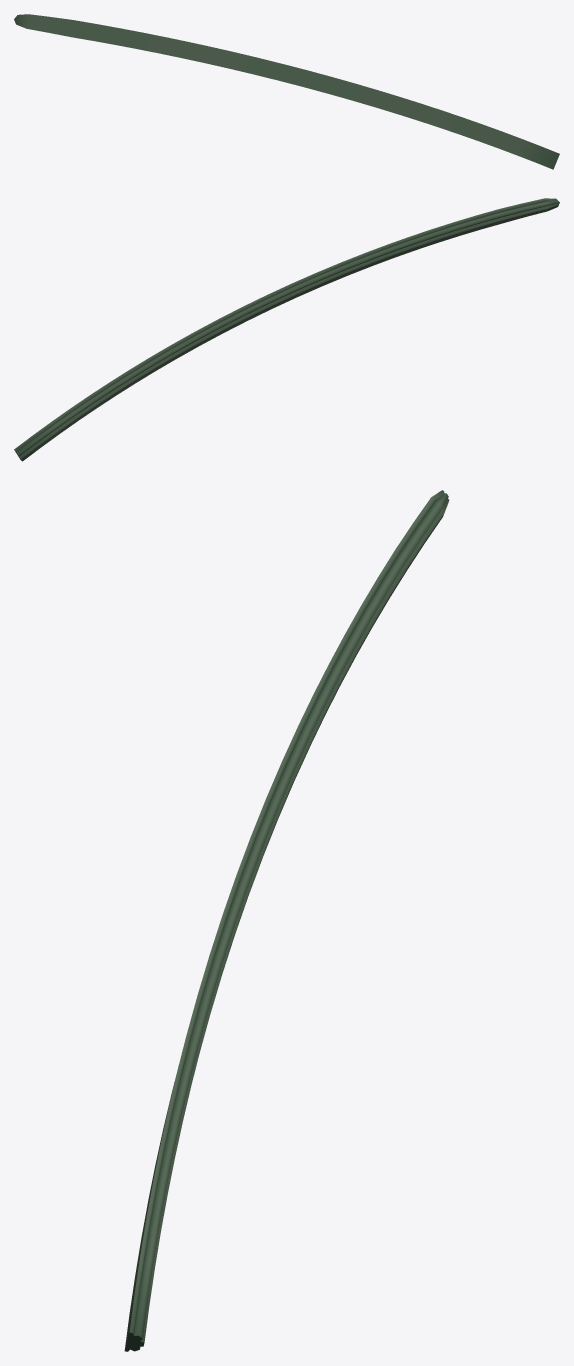
The model's file is trees-plants-saplings-green-stem_v2.glb.
3 renders of one model, top to bottom at view 1: azimuth 30°, elevation 25°; view 2: azimuth 210°, elevation 25°; view 3: azimuth 270°, elevation 25°, orthographic. The views are drawn at different scales.
Parts seen in each view (by area): view 1: Green Stem_v2; view 2: Green Stem_v2; view 3: Green Stem_v2.
Part boxes in pixels (box(x1,y1,x2,y2)): Green Stem_v2: box(14, 14, 559, 169); Green Stem_v2: box(14, 198, 559, 461); Green Stem_v2: box(124, 490, 449, 1351).
Bounding box in the file's own units: 0.5 × 0.2135 × 0.1505.
